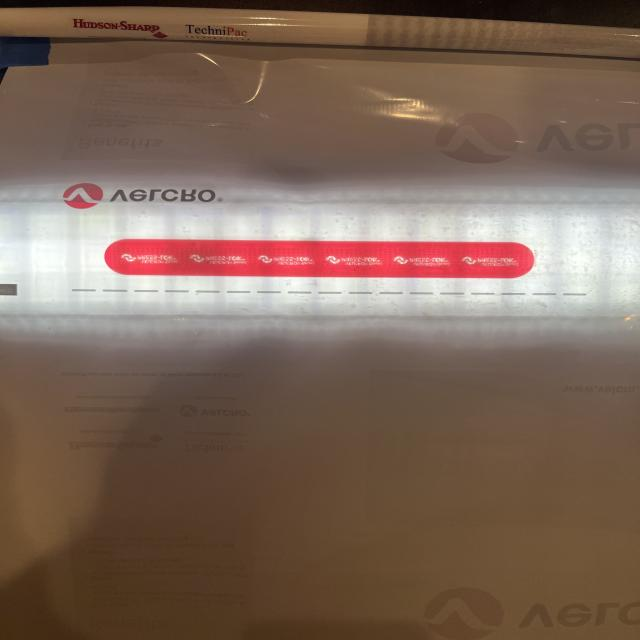zip_s: (109, 233, 539, 279)
